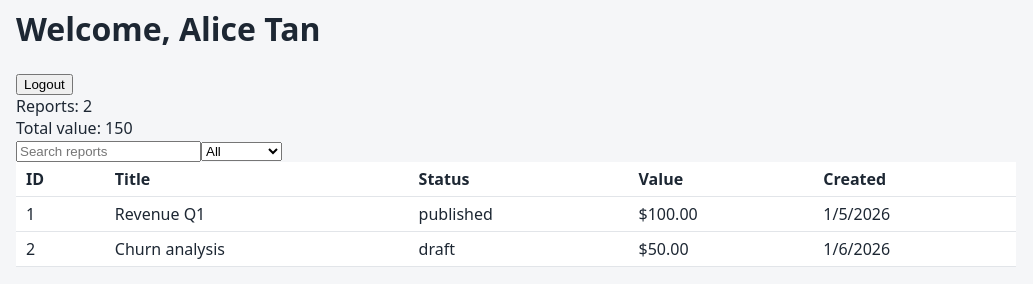
Test case: Dashboard › filters by search text
The image size is (1033, 284).
Type "churn" into the field with placeholder "Search reports".
click(108, 151); type("churn")  # box 16,141 -> 201,162
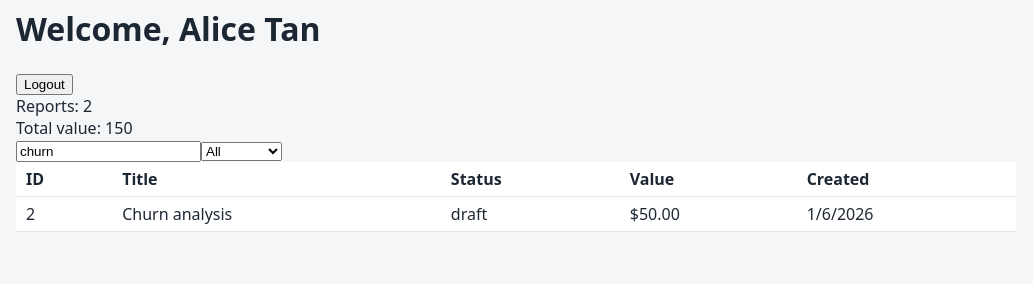
Expected: the text "Churn analysis" is shown, 112,196 -> 441,231
Result: the text "Revenue Q1" is gone
